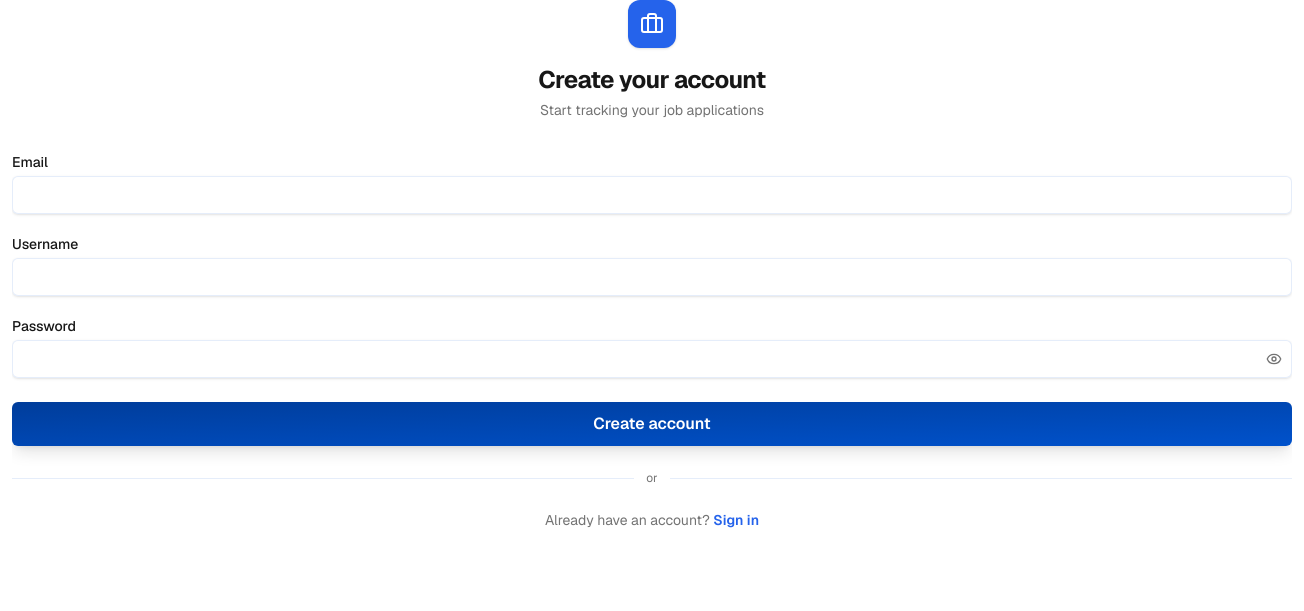
Test case: RegisterPage › shows mapped error message on failed registration
In the field labelled "Email": (652, 195) left=12, top=176, right=1292, bottom=214, type "test@test.com"
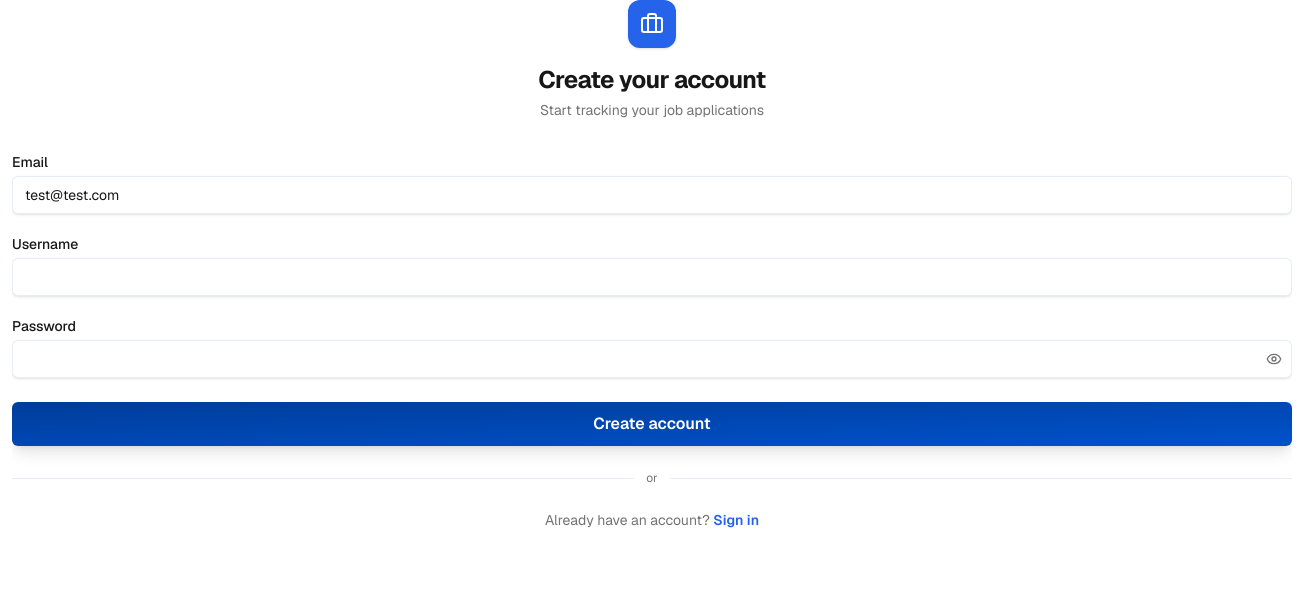
In the field labelled "Username": (652, 277) left=12, top=258, right=1292, bottom=296, type "testuser"
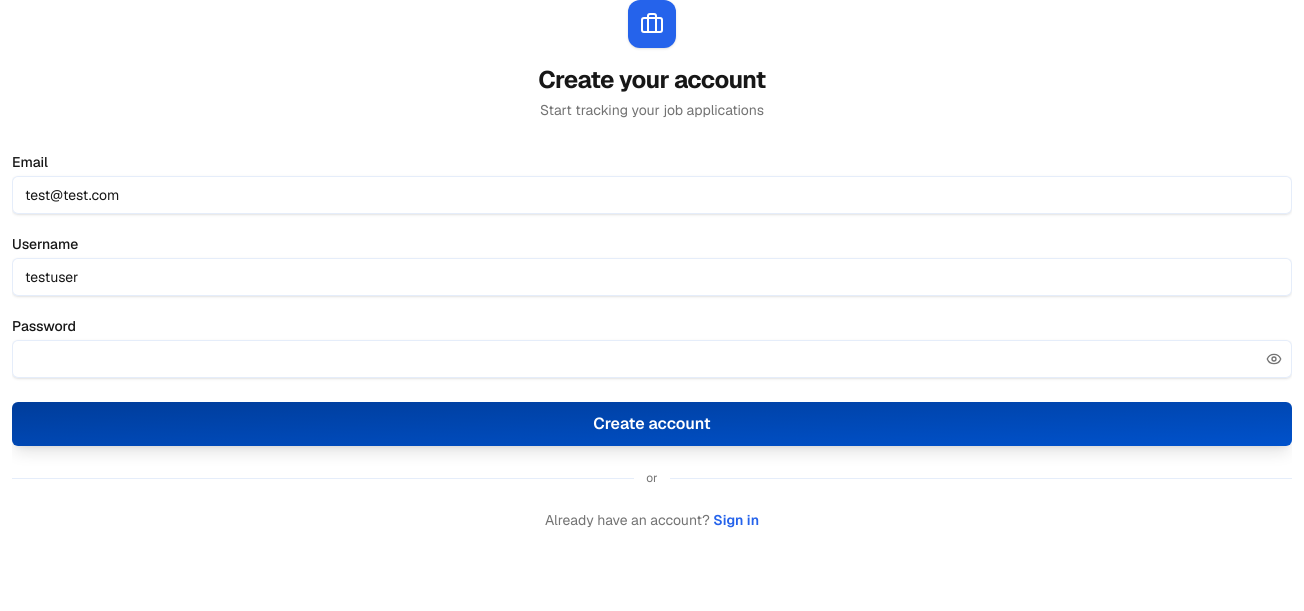
In the password field labelled "Password": (652, 359) left=12, top=340, right=1292, bottom=378, type "password123"
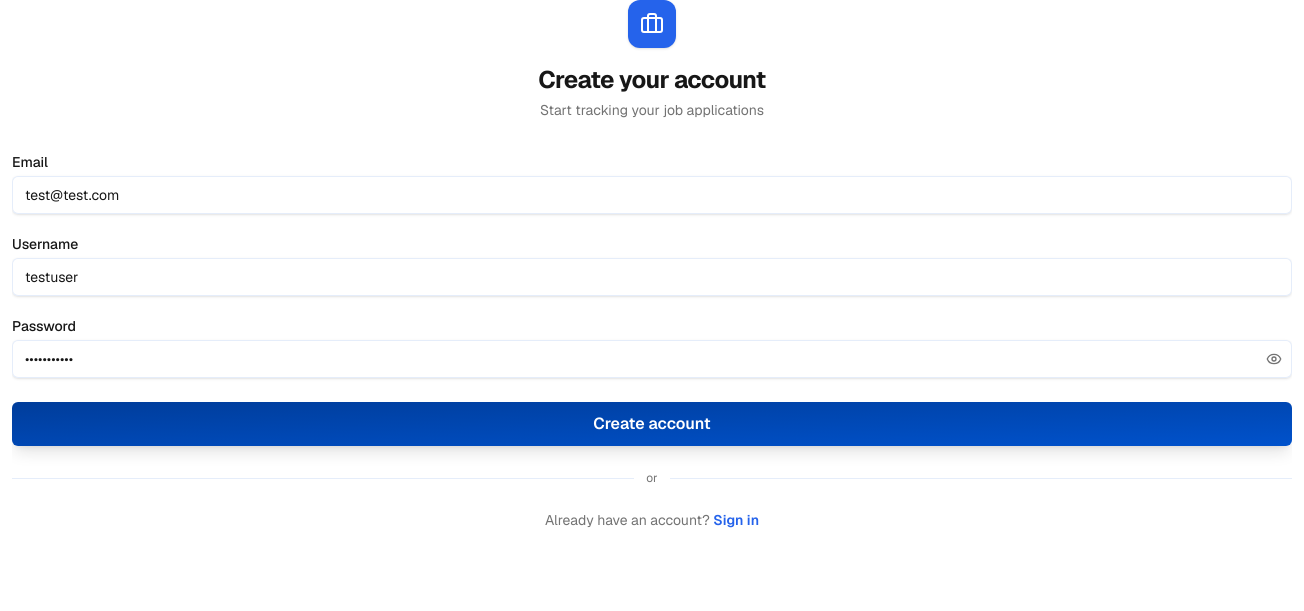
Click the button "Create account": (652, 424) left=12, top=402, right=1292, bottom=446
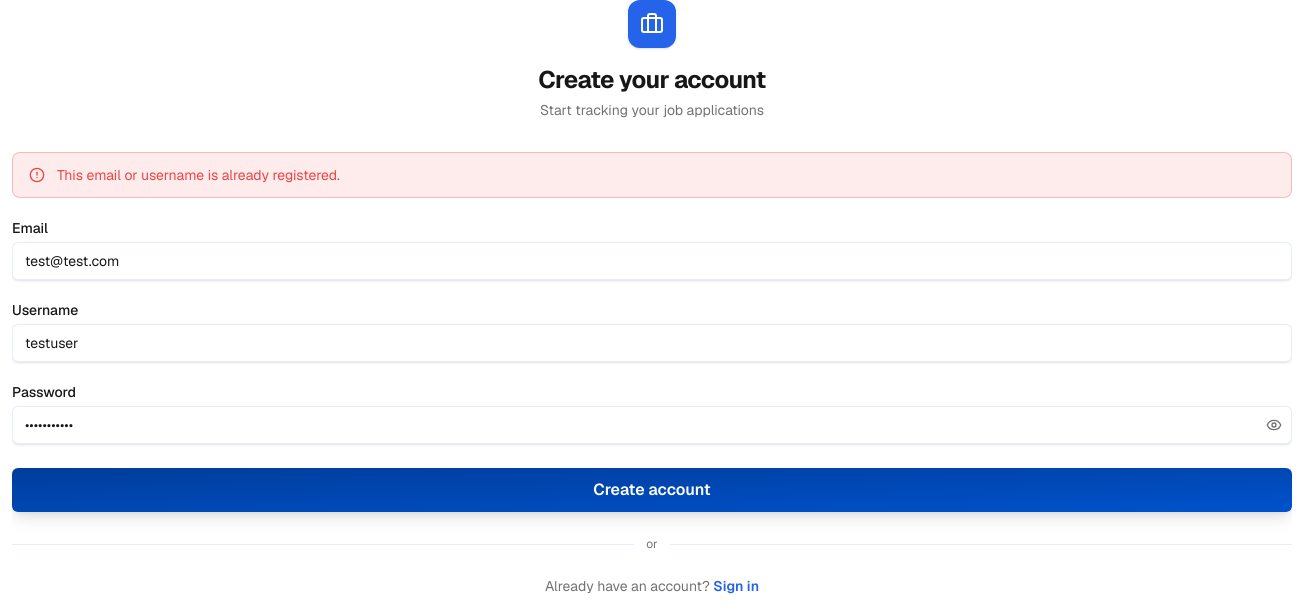
Check: the text "This email or username is already registered." is shown, box left=12, top=152, right=1292, bottom=198
